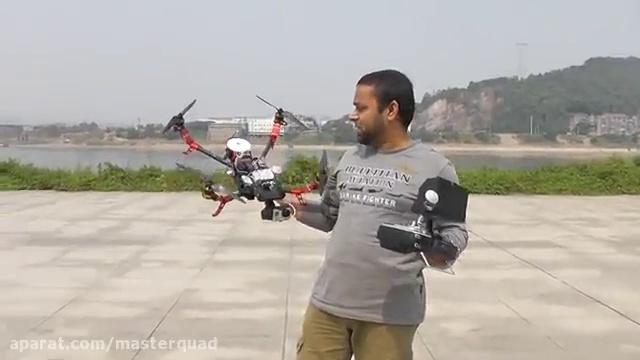drone: (157, 92, 329, 224)
